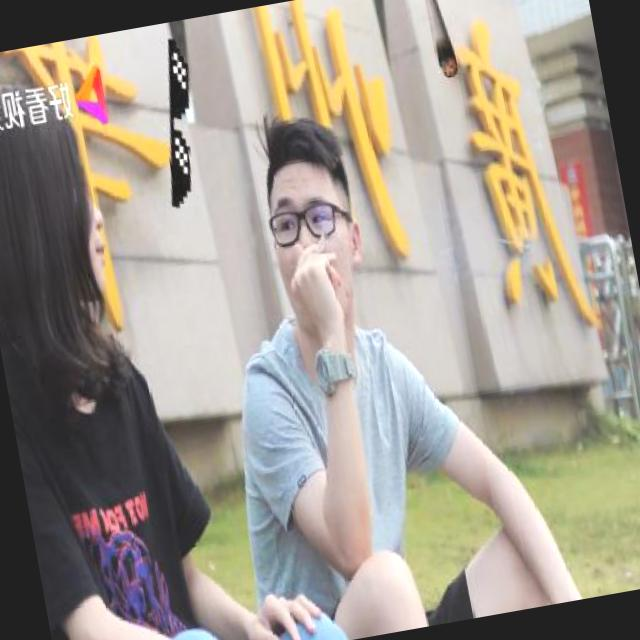cigarette: (308, 217, 336, 260)
